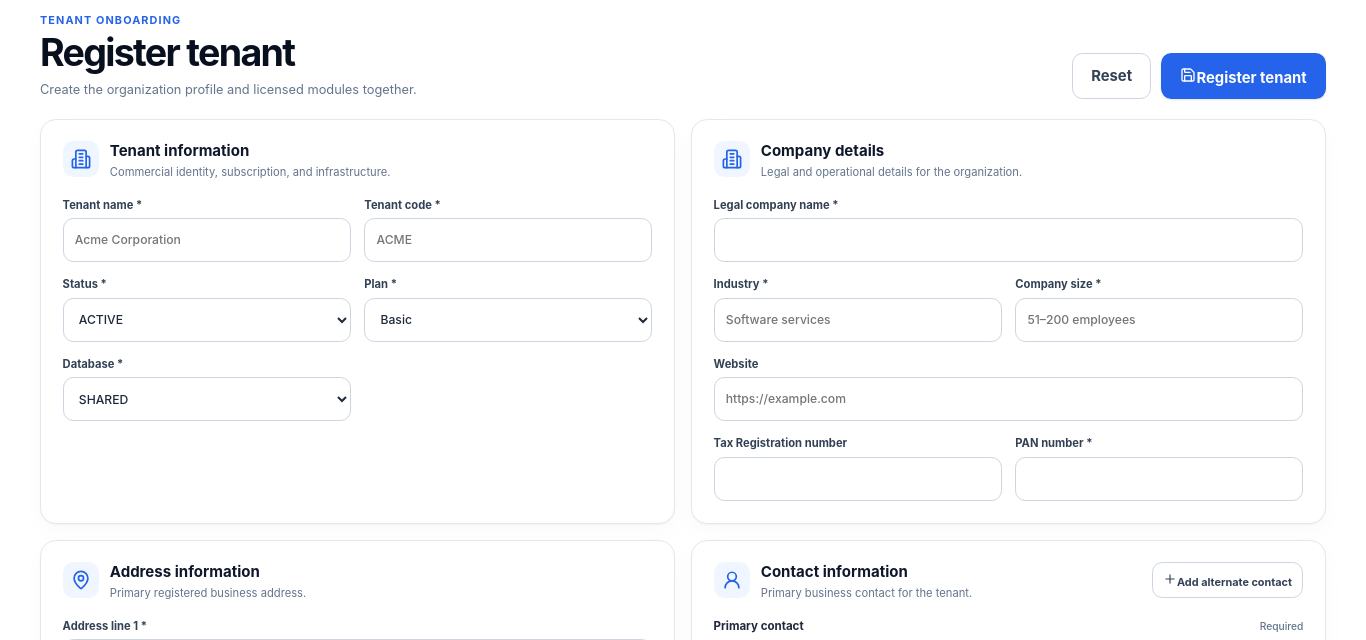
Test case: TenantRegistrationPage offering access workflow › uses the renamed company identifiers and requires PAN and designation
expect the field labelled "Tax Registration number" is shown: met, box [714,457,1002,501]
Click the button "Add alternate contact": click(1228, 580) [1152,562,1303,598]
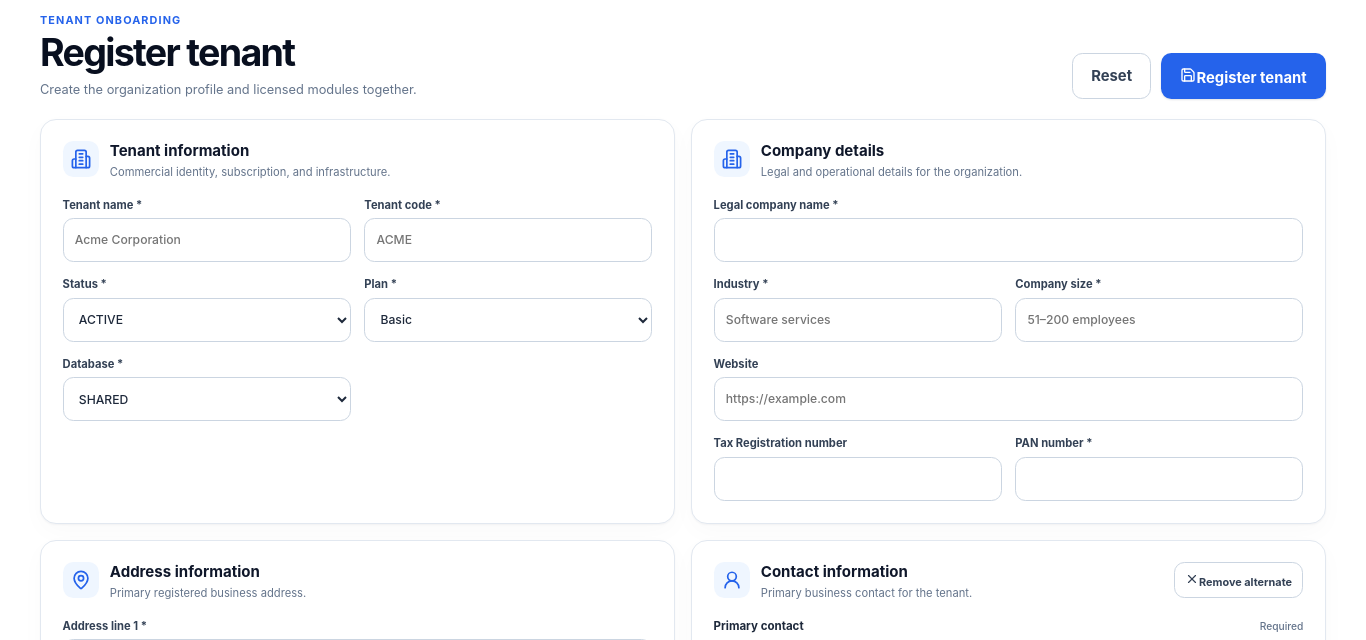
In the field labelled "PAN number *": (1159, 479) [1015,457,1303,501], type "invalid"
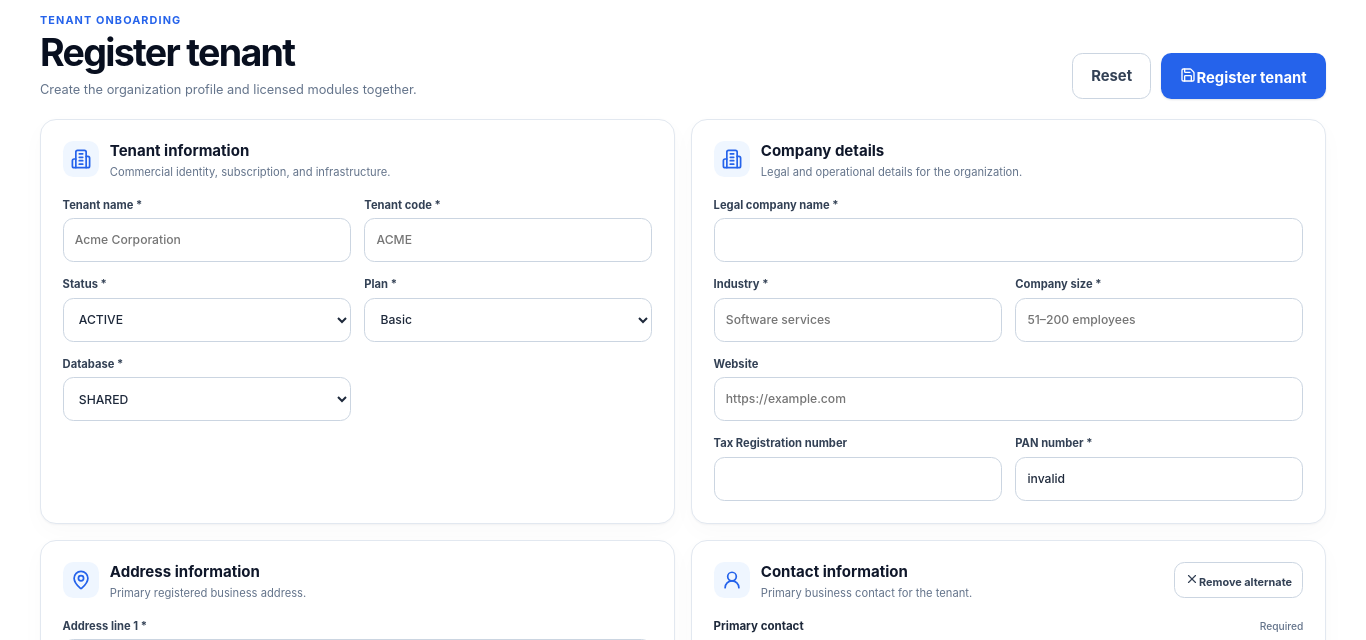
Click the button "Register tenant": click(1244, 76) [1161,53,1326,99]
(page scrolled)
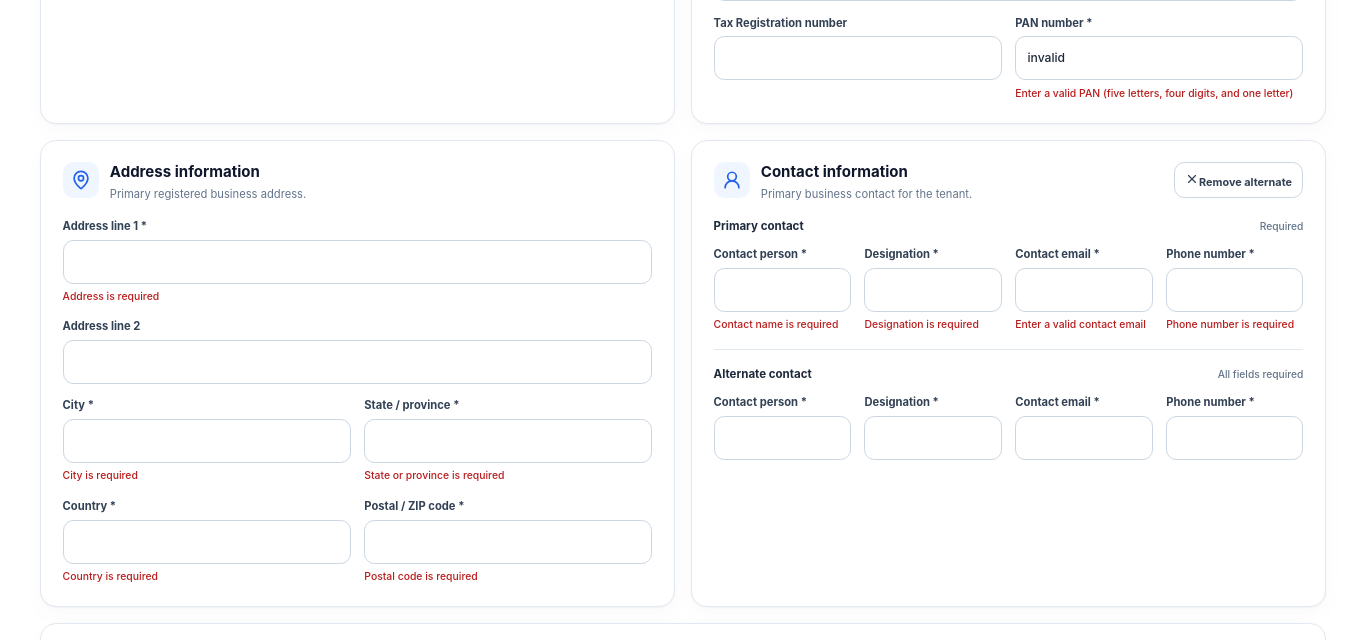
expect the text "Enter a valid PAN" is shown: met, box [1015,86,1294,100]
expect the text "Designation is required" is shown: met, box [864,318,979,331]
